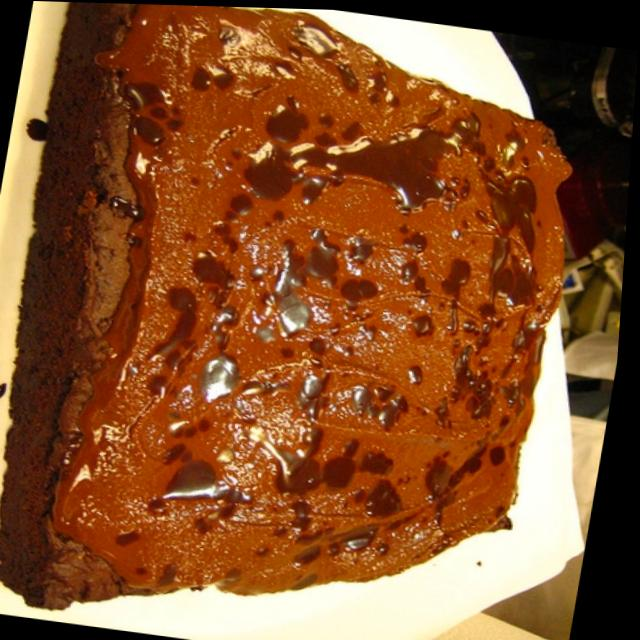蛋糕甜品: (0, 0, 630, 640)
